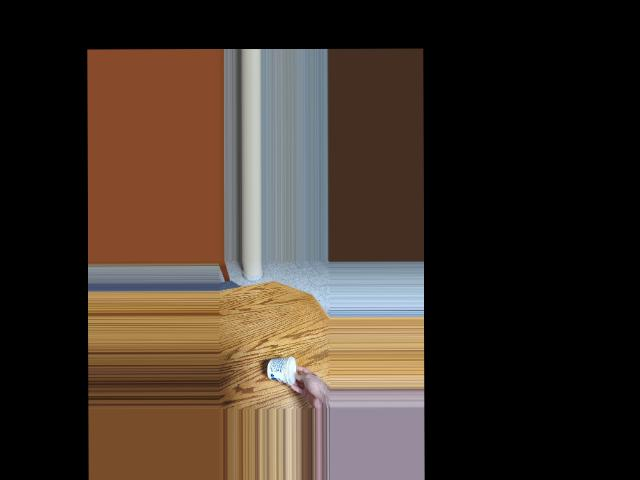cotage: (268, 357, 298, 387)
